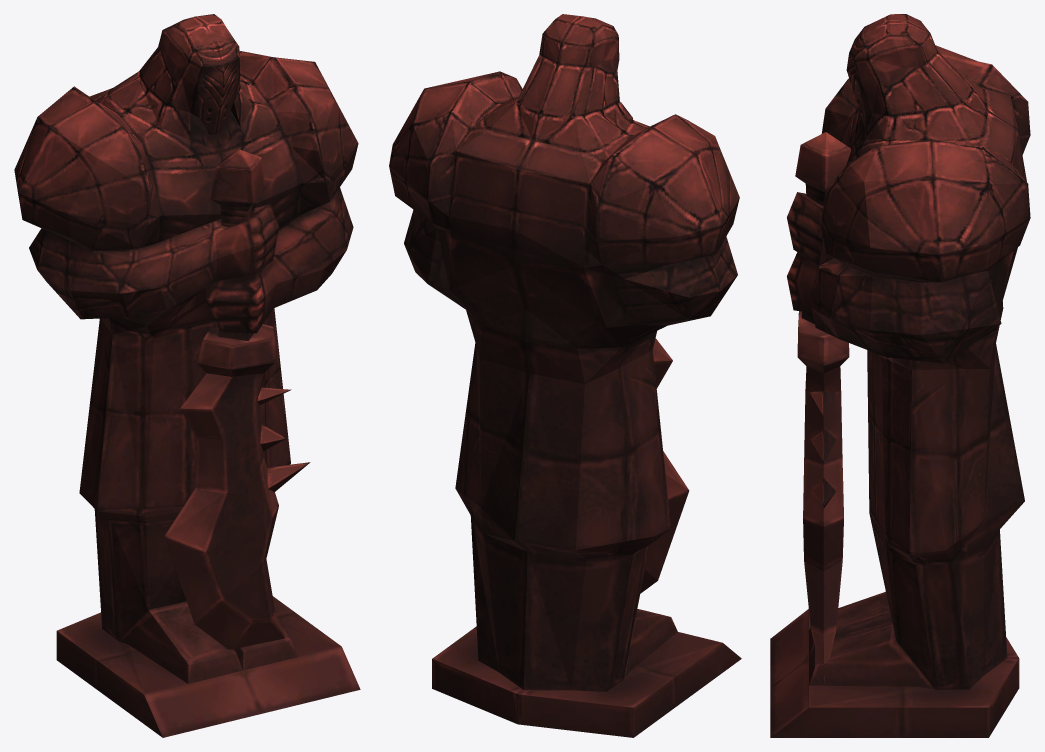
File: statue_small_left_01.fbx
3 views of the same model, side by side, from view 1: azimuth 30°, elevation 25°; view 2: azimuth 150°, elevation 25°; view 3: azimuth 270°, elevation 25° (orthographic). The views are drawn at different scales.
Visible parts, largest first — view 1: obj0.053; view 2: obj0.053; view 3: obj0.053.
Part boxes in pixels (x1,y1,x2,y2): obj0.053: (14, 14, 360, 737); obj0.053: (389, 14, 741, 737); obj0.053: (770, 14, 1030, 737).
Bounding box in the file's own units: 3.25 × 6.22 × 2.2.
